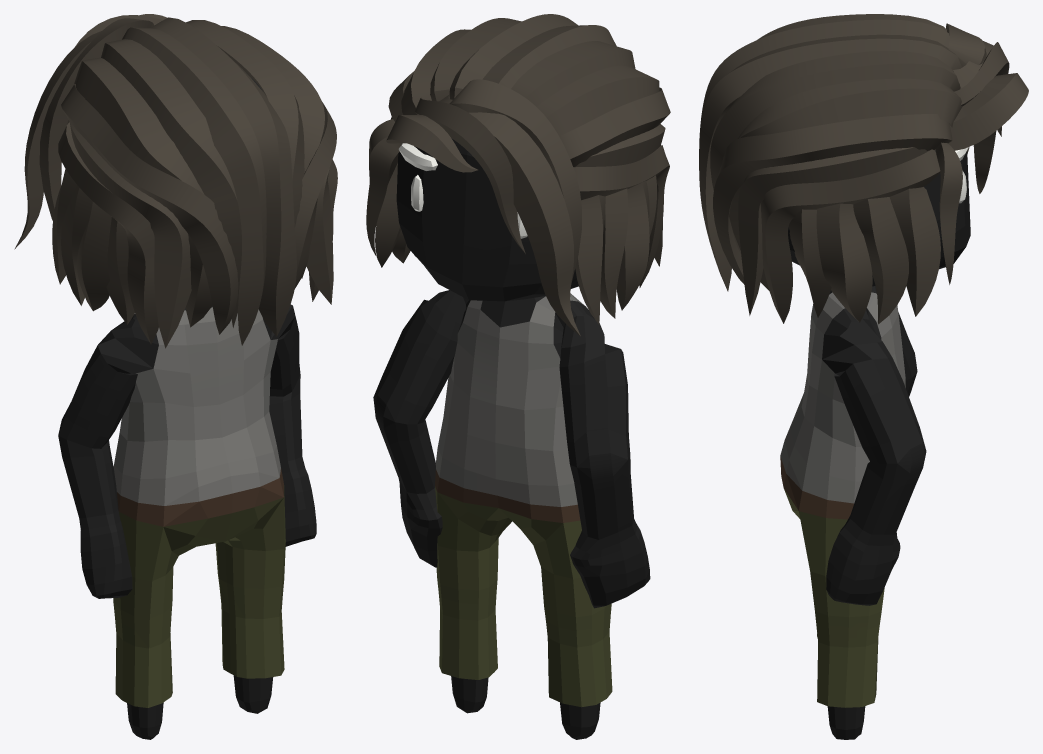
The model's file is Moun_Casual3_Female_Stand.fbx.
3 renders of one model, left to right at view 1: azimuth 30°, elevation 25°; view 2: azimuth 150°, elevation 25°; view 3: azimuth 270°, elevation 25°, orthographic. The views are drawn at different scales.
Visible parts, largest first — view 1: Moun_Casual3_Female_Stand; view 2: Moun_Casual3_Female_Stand; view 3: Moun_Casual3_Female_Stand.
Boxes of the visible parts, x1,y1,x2,y2 form: Moun_Casual3_Female_Stand: [14, 14, 337, 739]; Moun_Casual3_Female_Stand: [366, 14, 670, 739]; Moun_Casual3_Female_Stand: [699, 14, 1028, 739].
Bounding box in the file's own units: 0.6314 × 1.67 × 0.7318.
